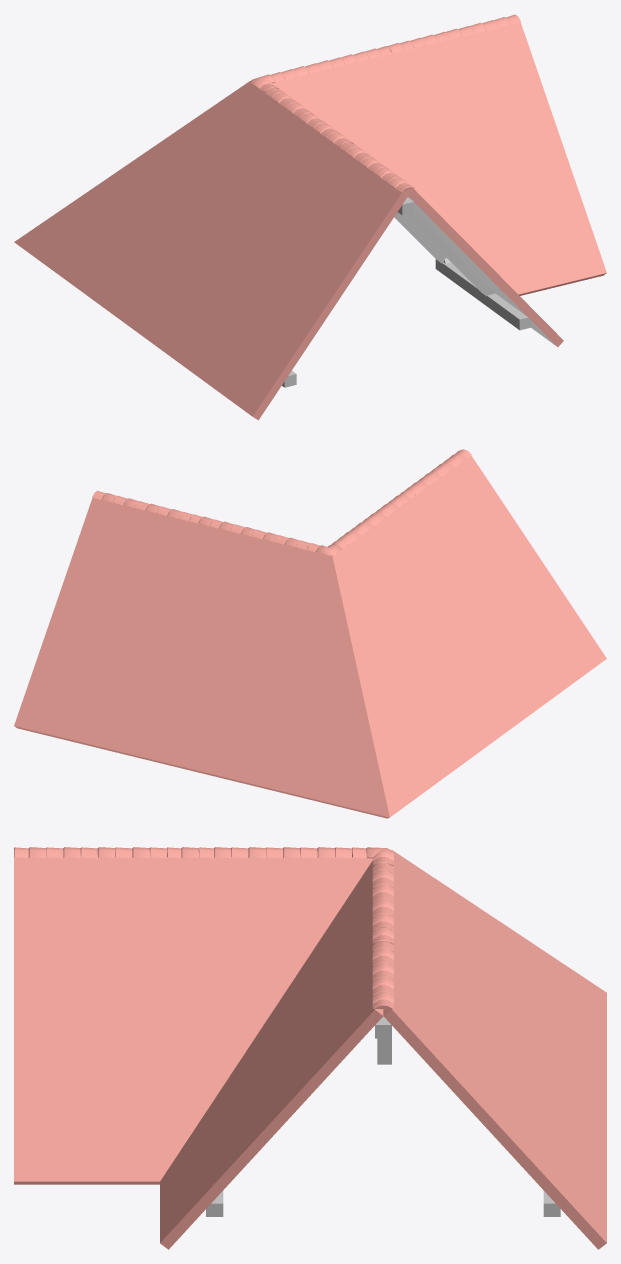
File: dfk_roof_small_intersect_A.fbx
The picture shows the model from 3 angles, top to bottom: view 1: azimuth 30°, elevation 25°; view 2: azimuth 150°, elevation 25°; view 3: azimuth 270°, elevation 25°; orthographic projection. The views are drawn at different scales.
Visible parts, largest first — view 1: dfk_roof_C; view 2: dfk_roof_C; view 3: dfk_roof_C.
Part boxes in pixels (box(x1,y1,x2,y2)): dfk_roof_C: box(14, 14, 606, 420); dfk_roof_C: box(14, 449, 606, 818); dfk_roof_C: box(14, 847, 606, 1249).
Size of the model in its own units: 8.02 by 3.66 by 8.03.
